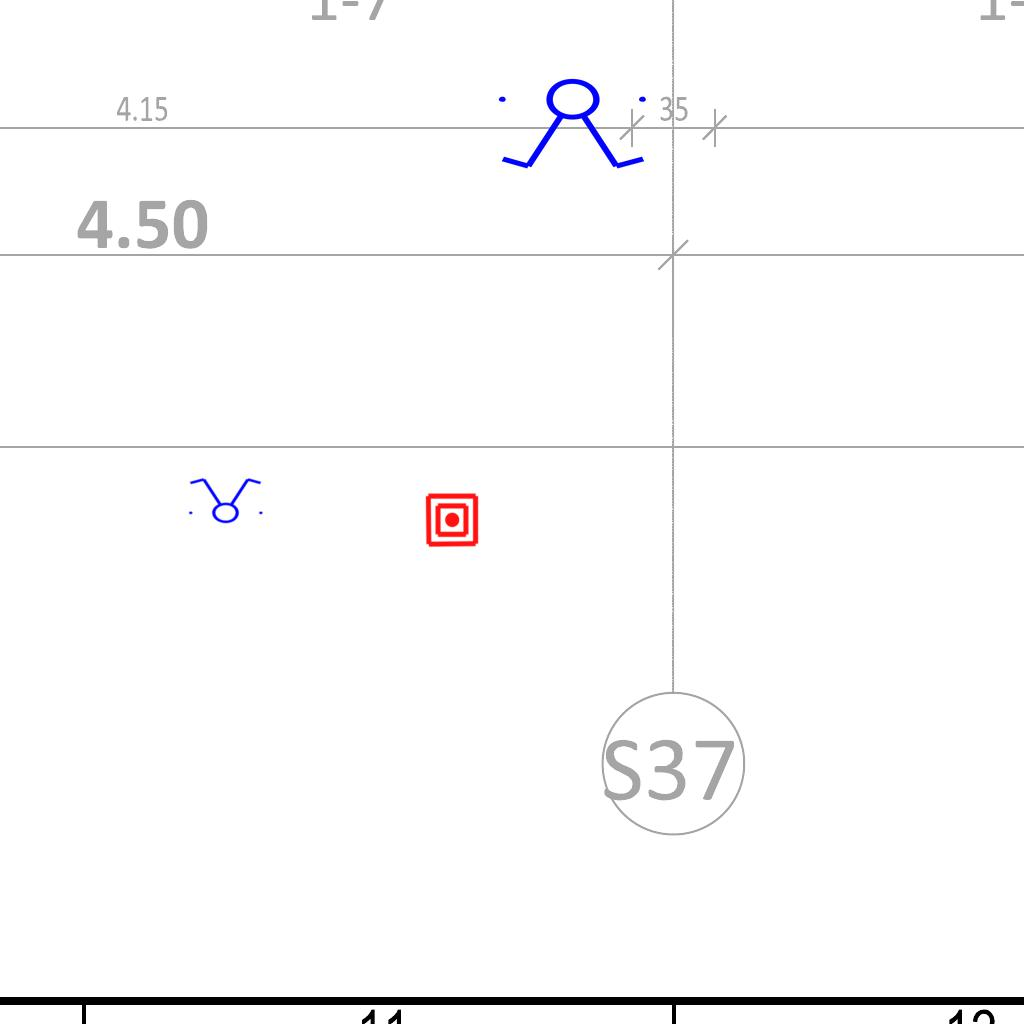NAM-Nichtautomatischer_Melder: (424, 492, 480, 548)
Serienschalter: (490, 77, 658, 173), (183, 476, 267, 524)
